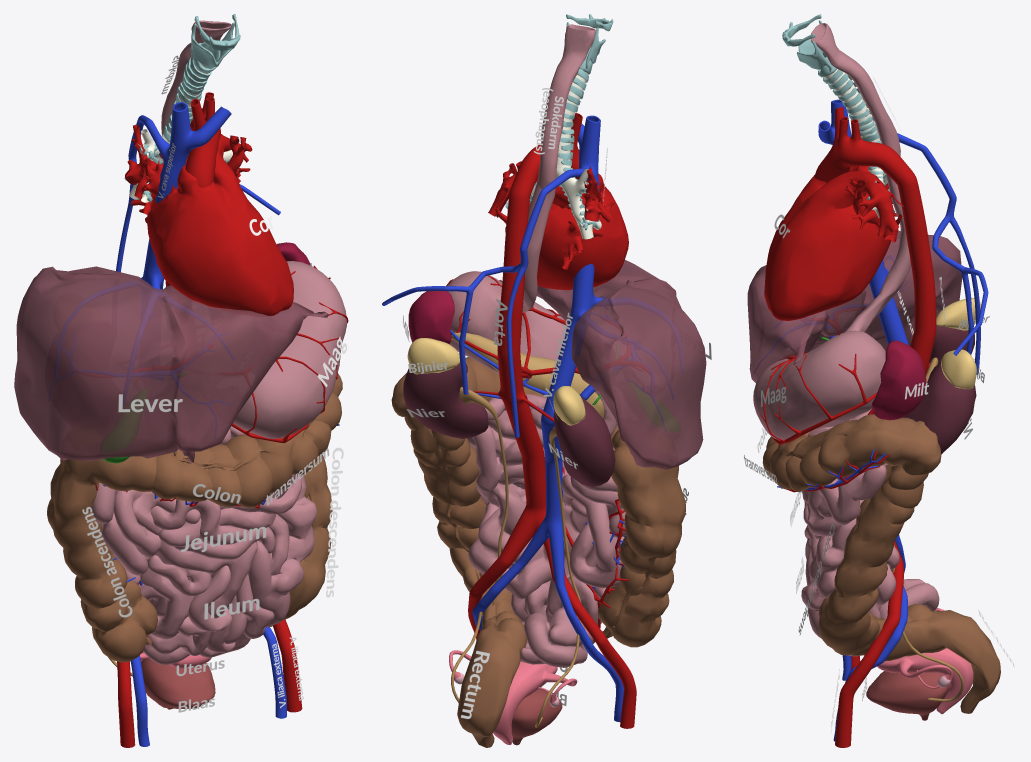
3 renders of one model, left to right at view 1: azimuth 30°, elevation 25°; view 2: azimuth 150°, elevation 25°; view 3: azimuth 270°, elevation 25°, orthographic. The views are drawn at different scales.
Parts seen in each view (by area): view 1: Lever, Intestine_Small_Dunne_darms, Intestine_Large_Dikke_darms, Heart, Vein_1, Labels, Artery_1, Bladder_Blaas, Cartilage_throat, Cartilage_trachea, Artery_2, Gallbladder_Galblaas (+2 smaller); view 2: Intestine_Small_Dunne_darms, Intestine_Large_Dikke_darms, Lever, Vein_1, Artery_1, Heart, Kidney_L, Kidney_R, Labels, Uterus1, Spleen_Milt, Pancreas (+12 smaller); view 3: Intestine_Large_Dikke_darms, Intestine_Small_Dunne_darms, Heart, Artery_1, Lever, Vein_1, Kidney_L, Spleen_Milt, Bladder_Blaas, Labels, Uterus1, Artery_2 (+8 smaller).
Part boxes in pixels (x1,y1,x2,y2): Lever: (14, 266, 328, 463); Intestine_Small_Dunne_darms: (91, 20, 346, 664); Intestine_Large_Dikke_darms: (47, 373, 342, 662); Heart: (125, 124, 293, 316); Vein_1: (55, 102, 286, 746); Labels: (82, 55, 346, 712); Artery_1: (117, 92, 302, 747); Bladder_Blaas: (141, 658, 215, 709); Cartilage_throat: (190, 14, 240, 71); Cartilage_trachea: (124, 56, 227, 202); Artery_2: (76, 265, 348, 443); Gallbladder_Galblaas: (100, 371, 187, 463); Intestine_Small_Dunne_darms: (447, 24, 626, 667); Intestine_Large_Dikke_darms: (391, 357, 685, 747); Lever: (499, 260, 706, 469); Vein_1: (382, 115, 683, 722); Artery_1: (468, 113, 636, 728); Heart: (488, 161, 628, 289); Kidney_L: (403, 363, 488, 438); Kidney_R: (553, 397, 615, 486); Labels: (403, 88, 711, 718); Uterus1: (449, 650, 577, 744); Spleen_Milt: (408, 291, 454, 344); Pancreas: (451, 332, 604, 418); Intestine_Large_Dikke_darms: (762, 414, 1000, 713); Intestine_Small_Dunne_darms: (753, 23, 939, 656); Heart: (764, 166, 904, 320); Artery_1: (814, 106, 936, 747); Lever: (747, 230, 962, 382); Vein_1: (774, 99, 988, 741); Kidney_L: (903, 363, 976, 454); Spleen_Milt: (872, 340, 926, 420); Bladder_Blaas: (866, 671, 949, 720); Labels: (743, 77, 1014, 731); Uterus1: (877, 608, 973, 714); Artery_2: (760, 308, 877, 444).
Bounding box in the file's own units: 293 × 700 × 253.
18 materials, 1 textured.
